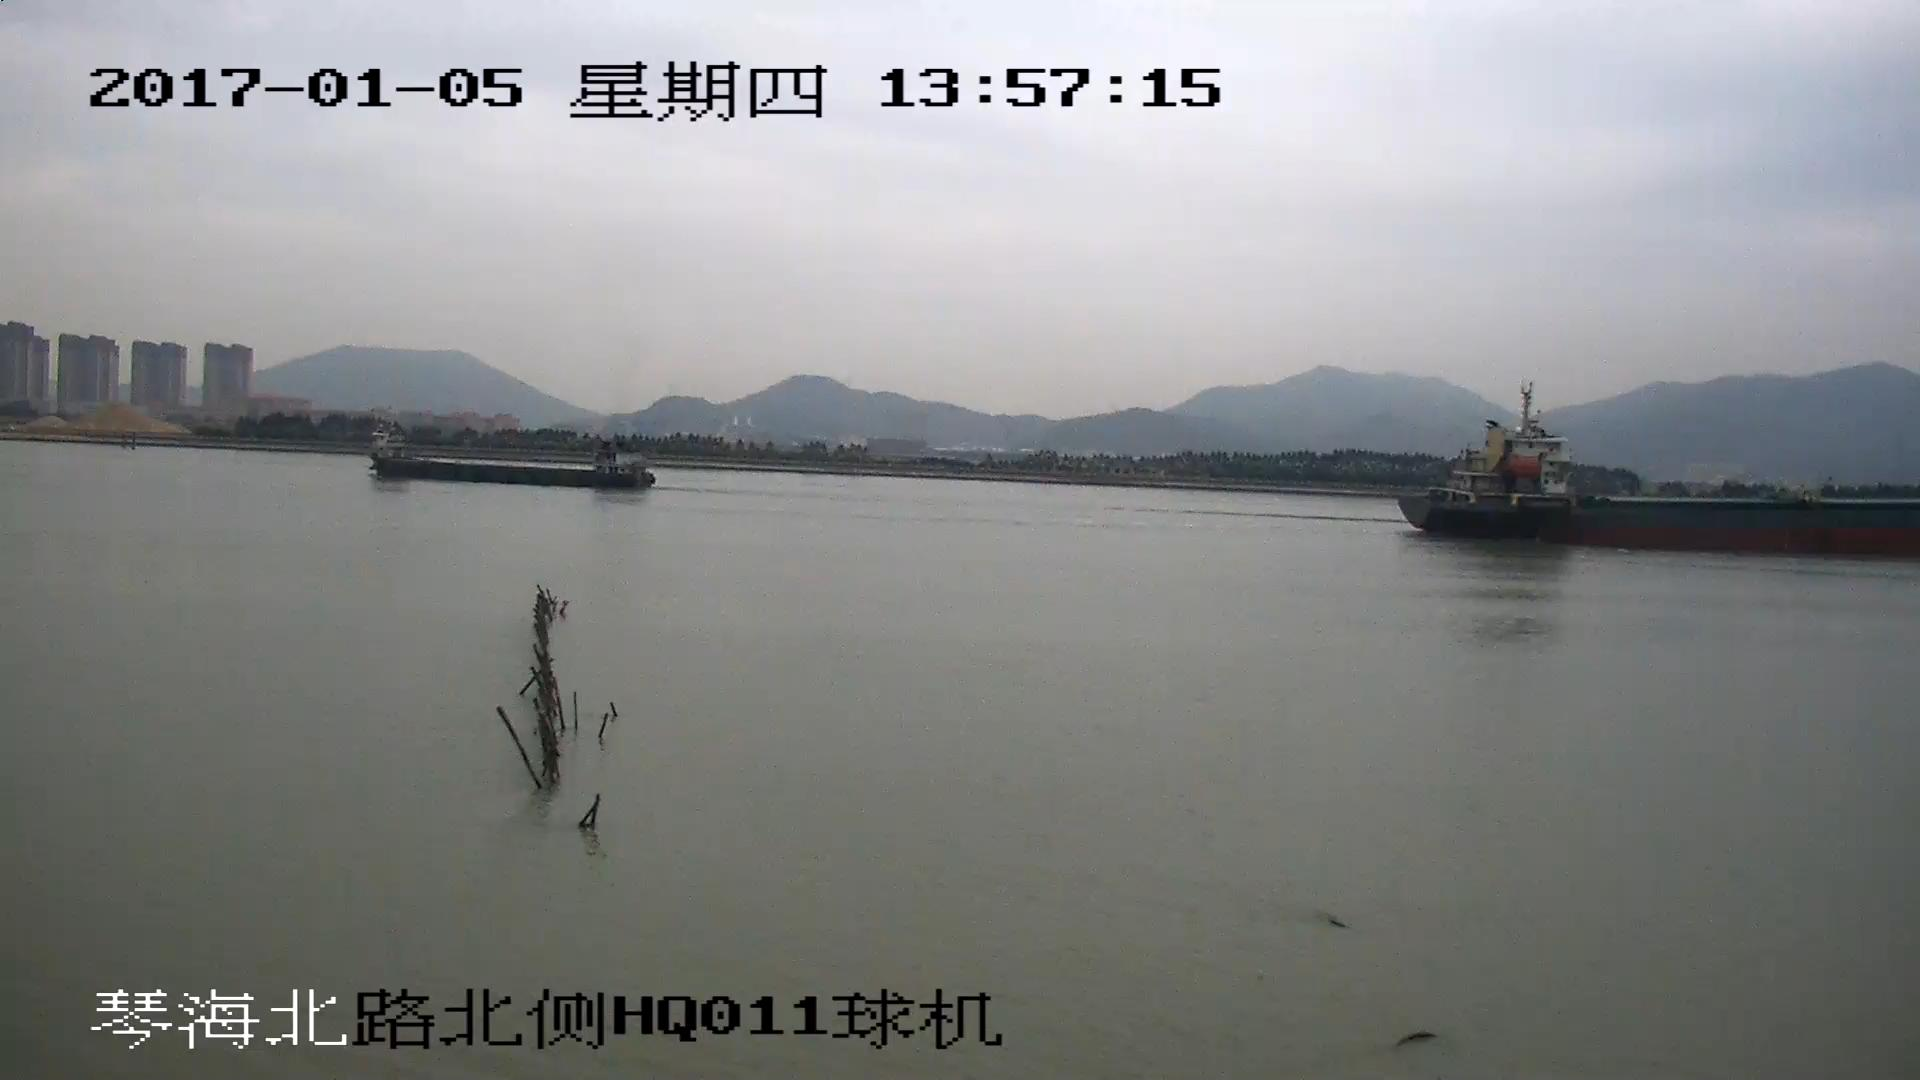general cargo ship: (1396, 388, 1920, 555), (368, 428, 647, 492)
